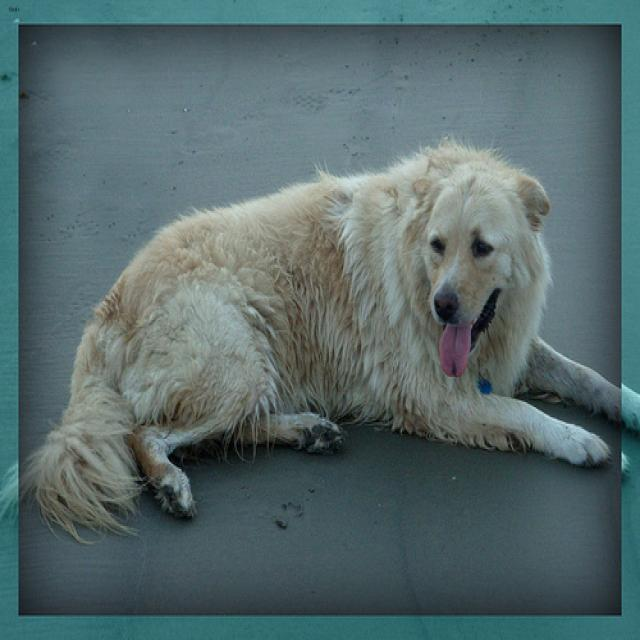dog-great_pyrenees: (1, 131, 637, 555)
